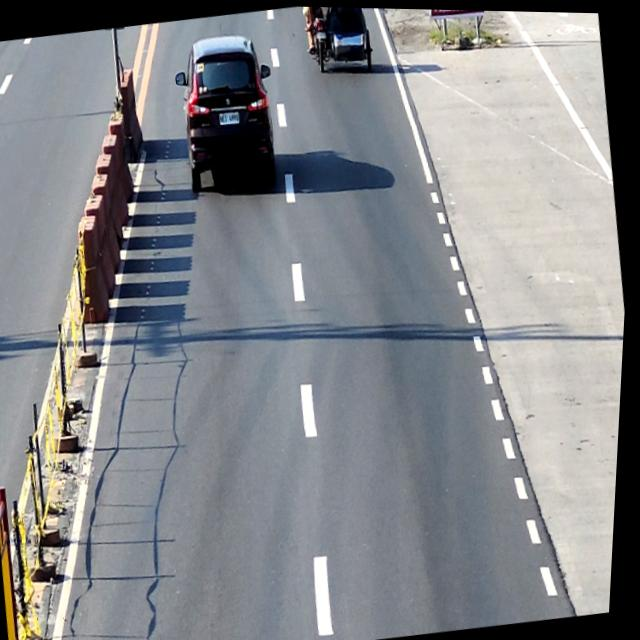Car: (166, 28, 290, 203)
License-Plate: (220, 110, 242, 126), (316, 29, 327, 38)
Tricycle: (302, 5, 378, 78)
